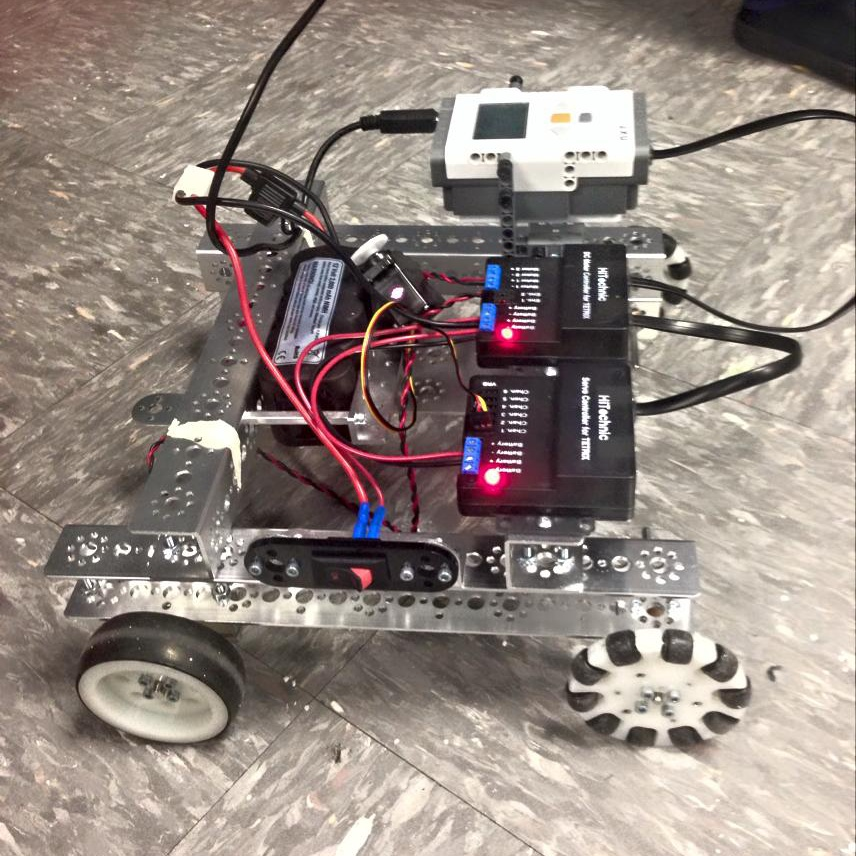robot: (37, 72, 755, 754)
